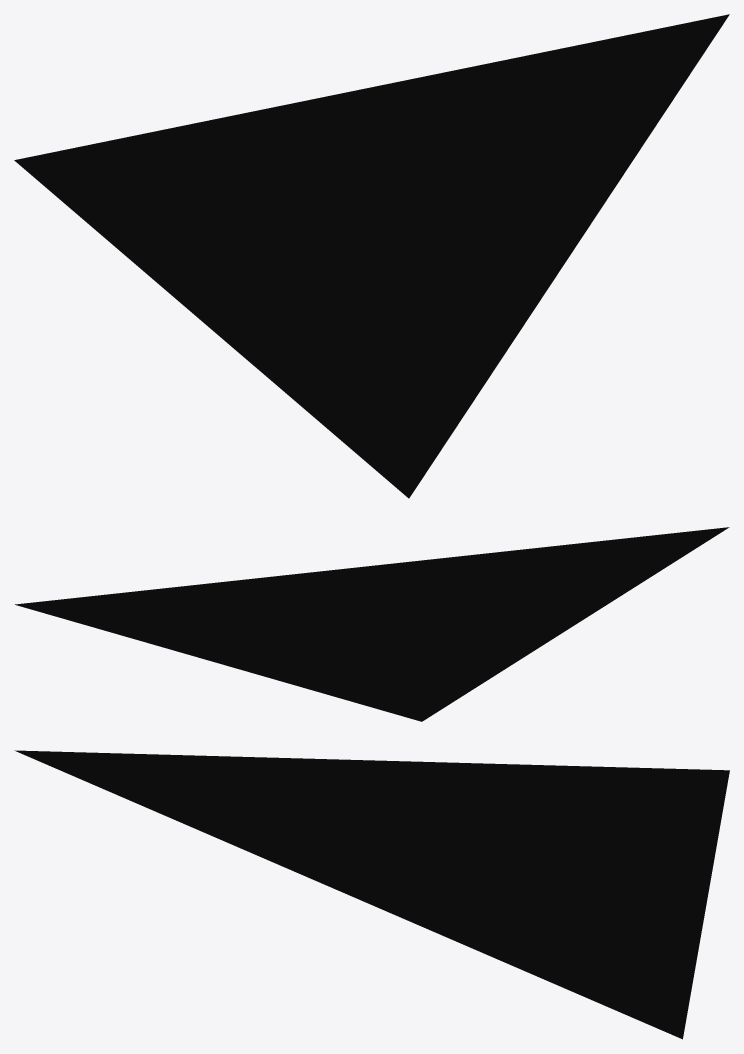
The model's file is wisp_70e0f747.glb.
The picture shows the model from 3 angles, top to bottom: view 1: azimuth 30°, elevation 25°; view 2: azimuth 150°, elevation 25°; view 3: azimuth 270°, elevation 25°; orthographic projection. The views are drawn at different scales.
Bounding box in the file's own units: 0.00235 × 0 × 0.00246.
1 material, 1 textured.
